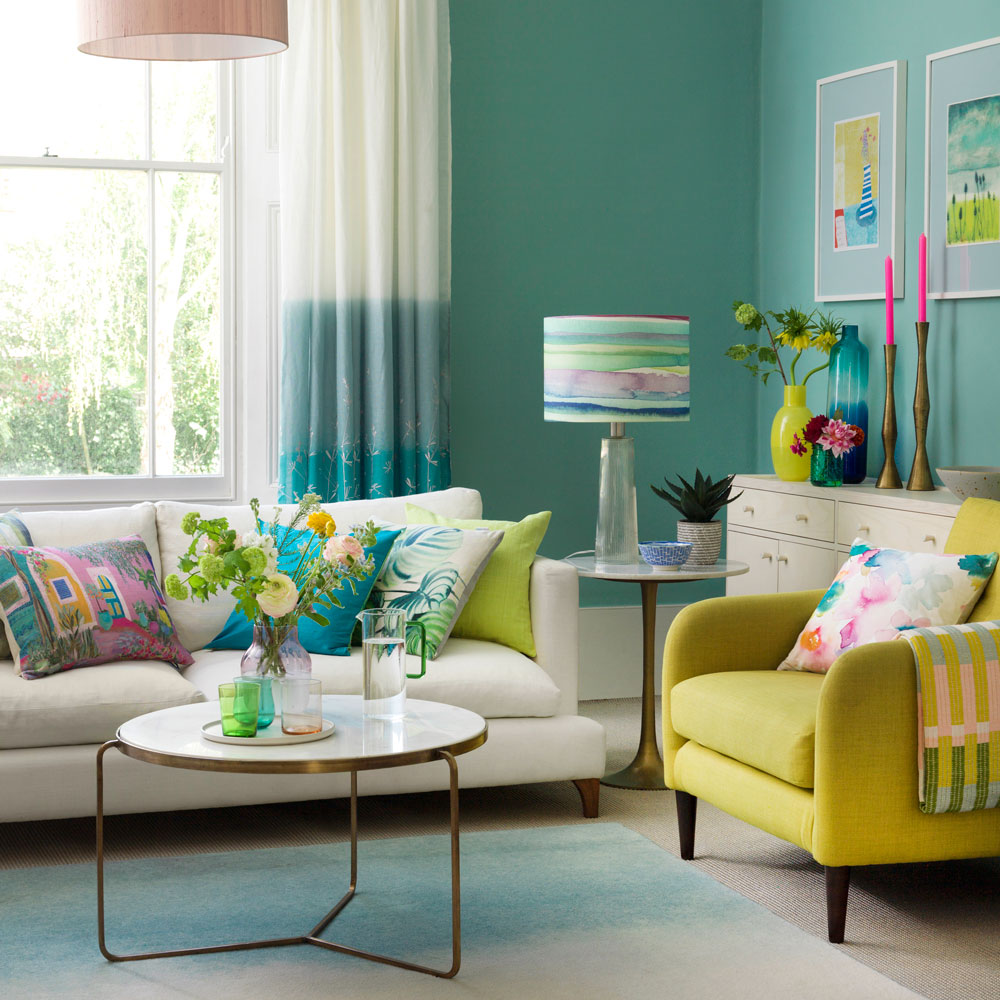hijau: (463, 519, 532, 649)
kuning: (667, 598, 1000, 862), (768, 385, 813, 480)
pink: (885, 253, 897, 346), (918, 232, 928, 320)
putih: (1, 507, 607, 783)
